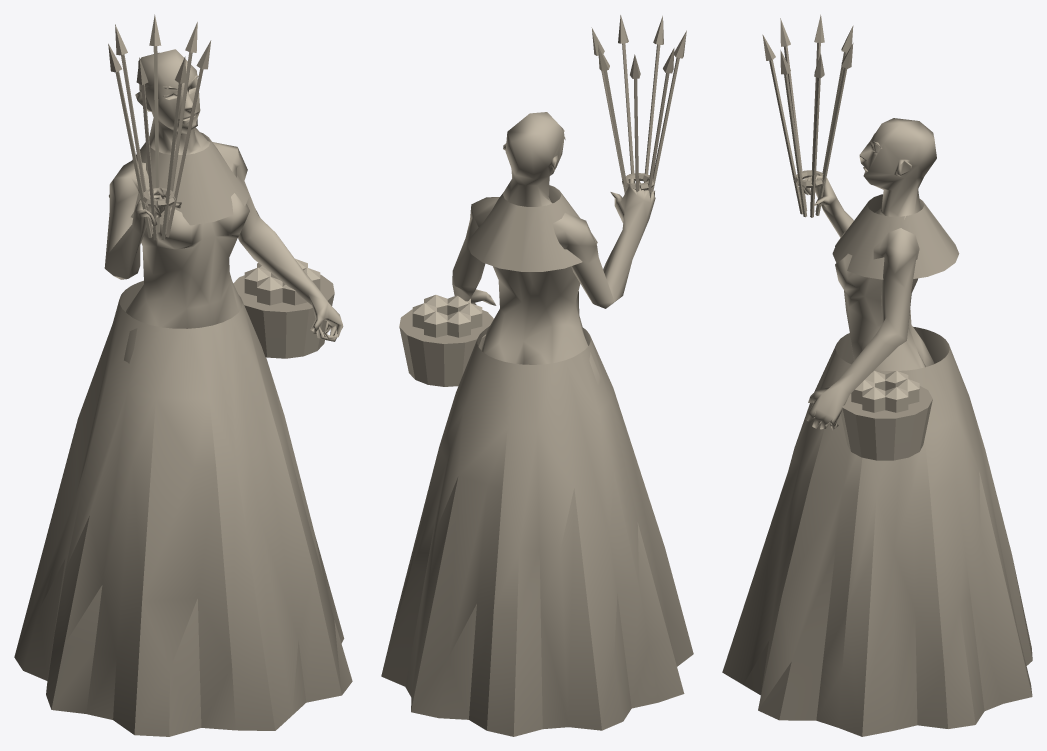
File: hero_w3.glb
3 renders of one model, left to right at view 1: azimuth 30°, elevation 25°; view 2: azimuth 150°, elevation 25°; view 3: azimuth 270°, elevation 25°, orthographic. The views are drawn at different scales.
Parts seen in each view (by area): view 1: HERO_W32; view 2: HERO_W32; view 3: HERO_W32.
Part boxes in pixels (x1=…): HERO_W32: x1=14, y1=14, x2=352, y2=736; HERO_W32: x1=381, y1=15, x2=693, y2=736; HERO_W32: x1=722, y1=14, x2=1032, y2=736.
Size of the model in its own units: 1.66 by 3.66 by 1.69.
